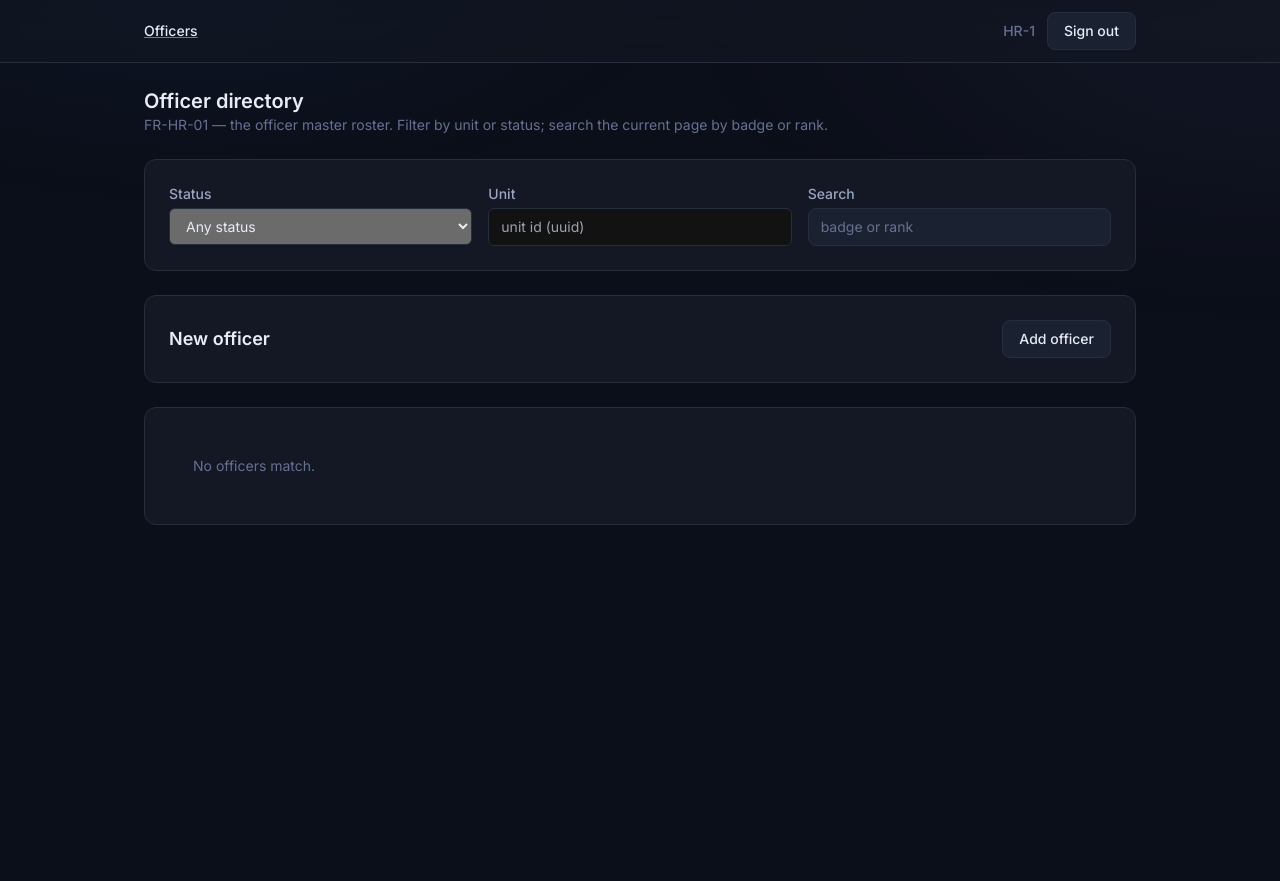
Test: OfficerDirectoryPage › creates an officer and refetches when hr.officer.write is held
The image size is (1280, 881).
Expected: the text "No officers match." is shown, x1=193 y1=457 x2=315 y2=474
Click the button "Add officer" at (1057, 339), box x1=1002 y1=320 x2=1111 y2=358
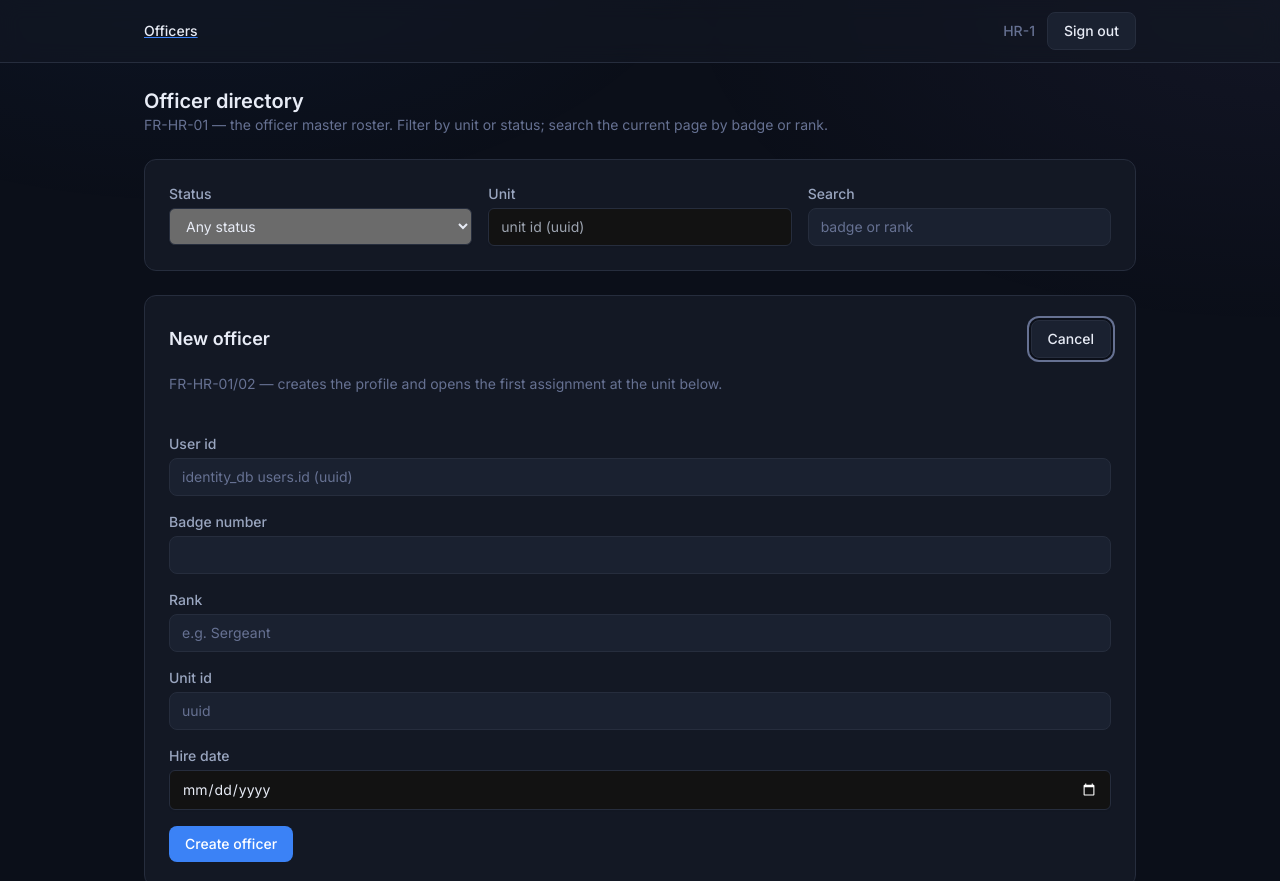
Type "u-9" into the field labelled "User id" at (640, 477), box x1=169 y1=458 x2=1111 y2=496
Type "OFF-777" into the field labelled "Badge number" at (640, 555), box x1=169 y1=536 x2=1111 y2=574
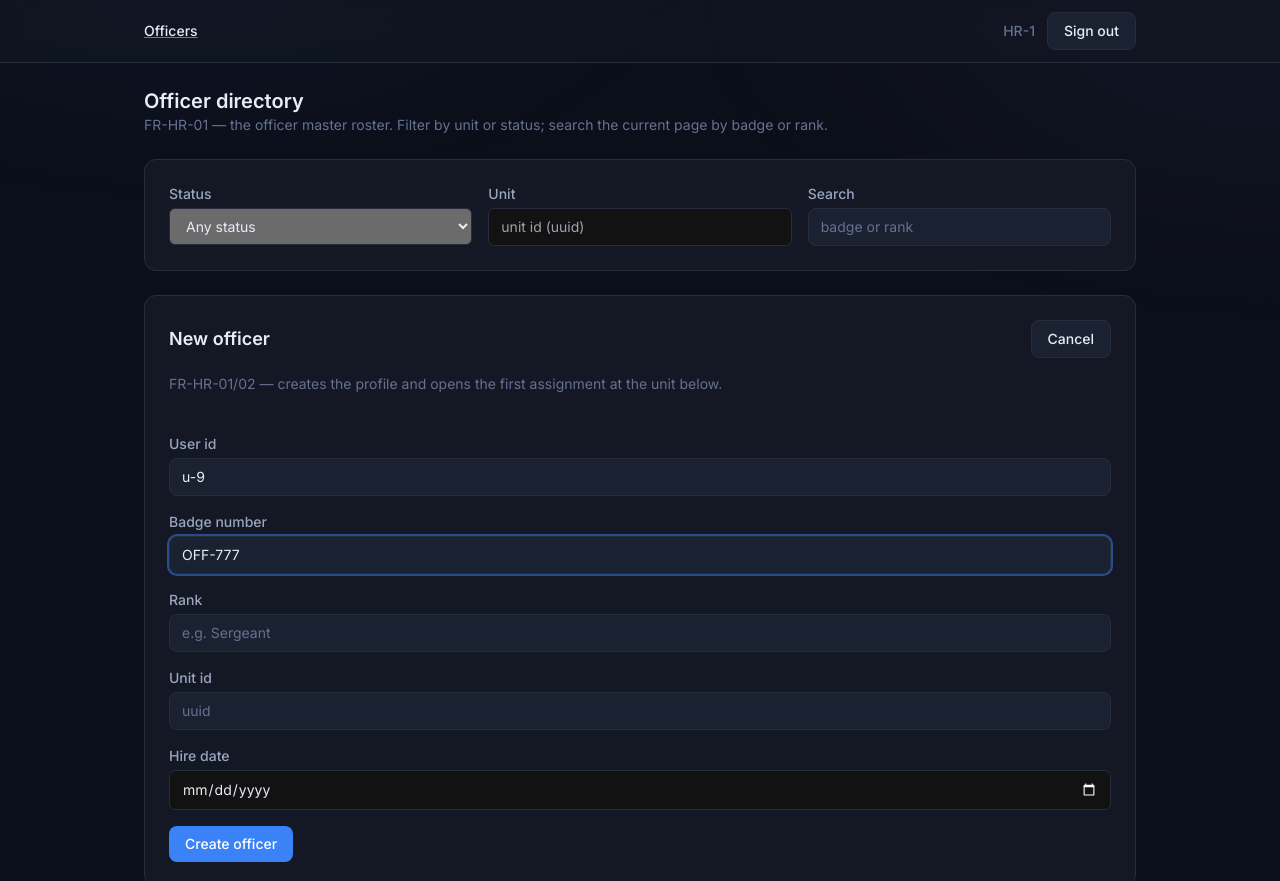
Type "Constable" into the field labelled "Rank" at (640, 633), box x1=169 y1=614 x2=1111 y2=652
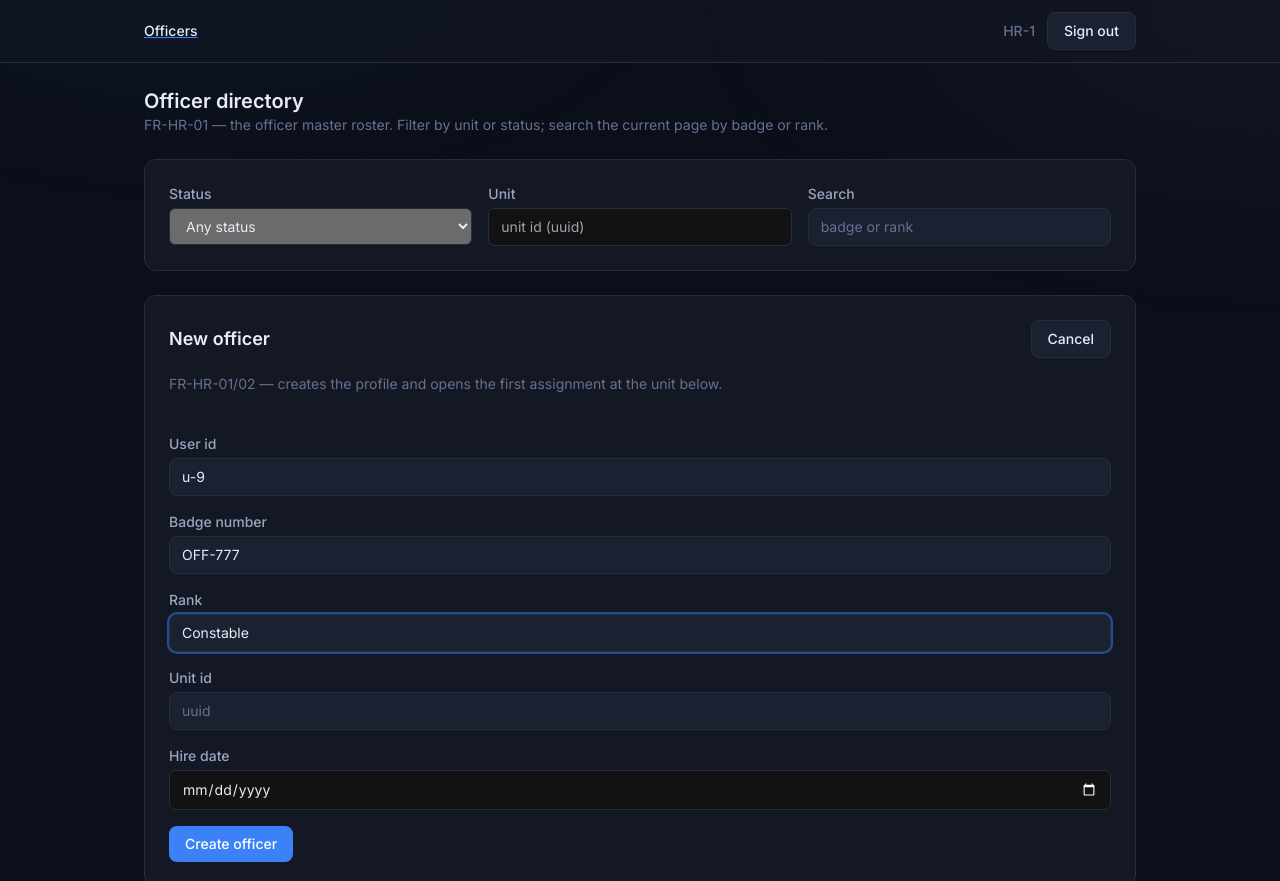
Type "unit-9" into the field labelled "Unit id" at (640, 711), box x1=169 y1=692 x2=1111 y2=730
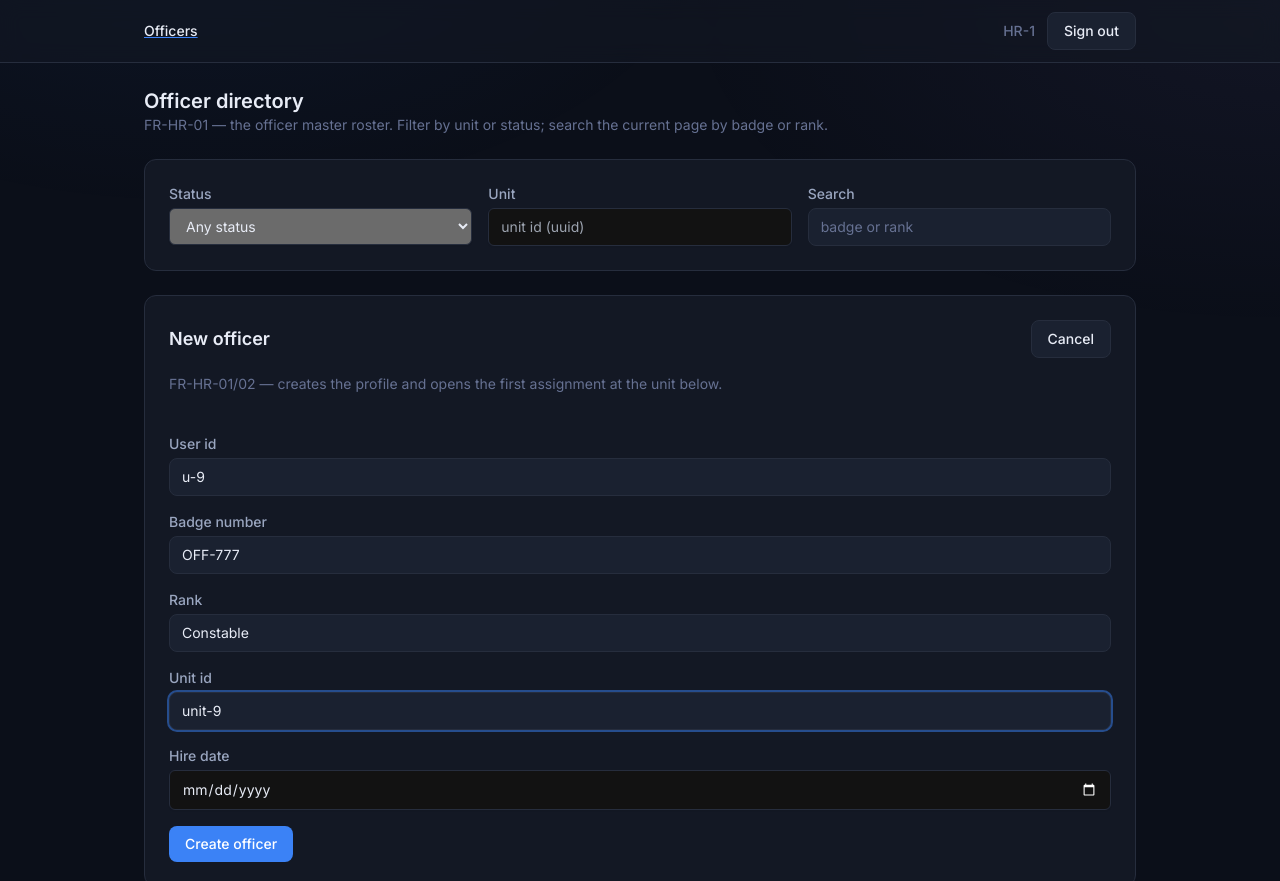
Type "2026-01-02" into the date field labelled "Hire date" at (640, 790), box x1=169 y1=770 x2=1111 y2=810
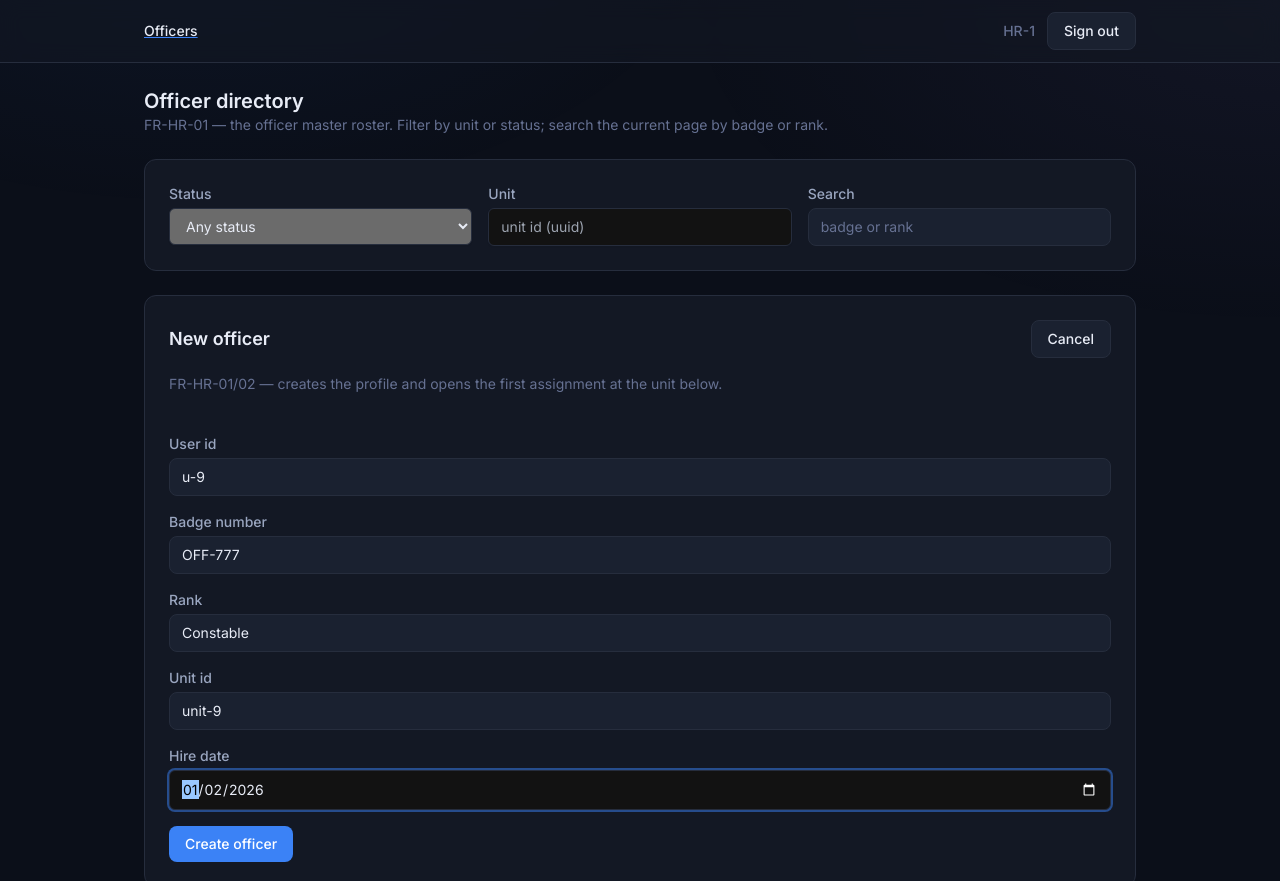
Click the button "Create officer" at (231, 844), box x1=169 y1=826 x2=293 y2=862
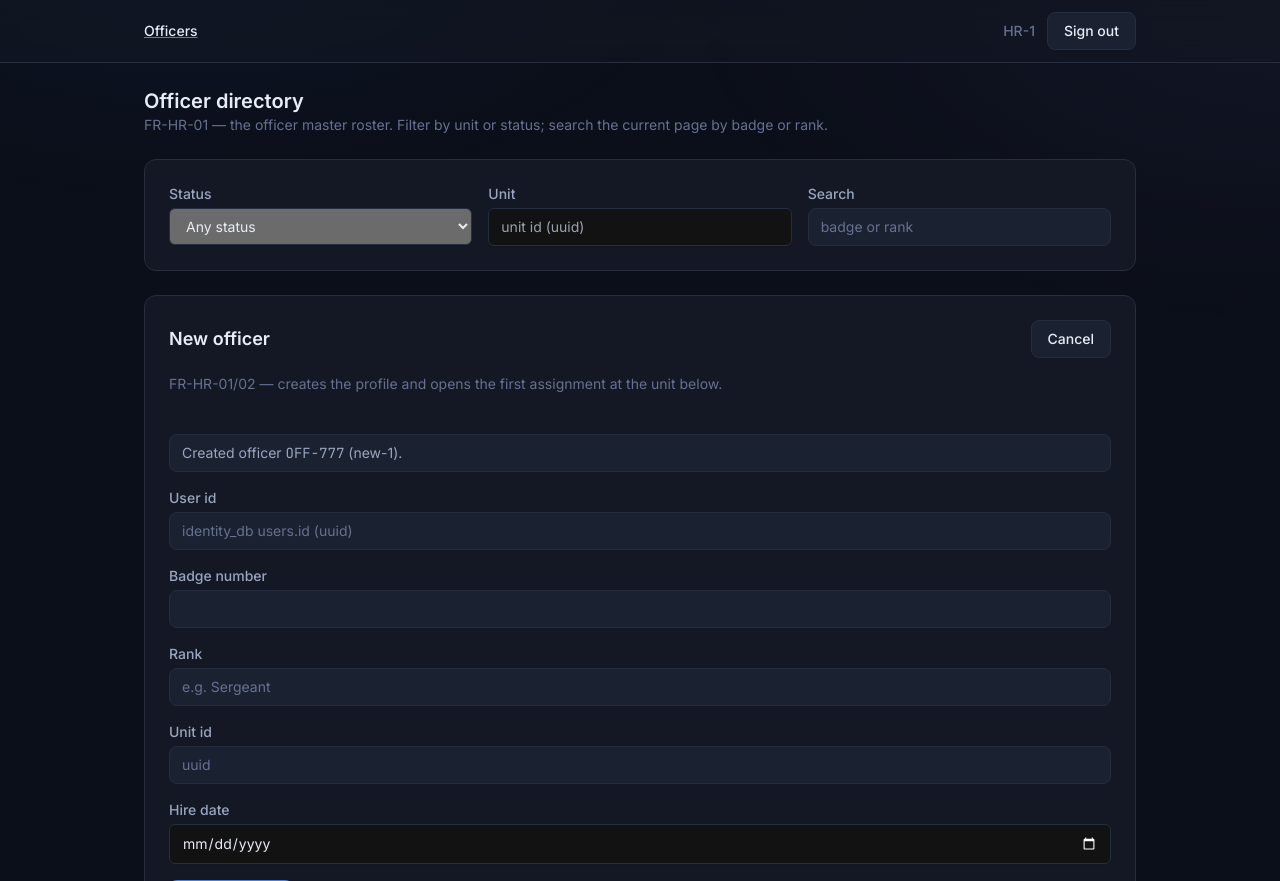
Expected: the text "Created officer OFF-777 (new-1)." is shown, x1=169 y1=434 x2=1111 y2=472
